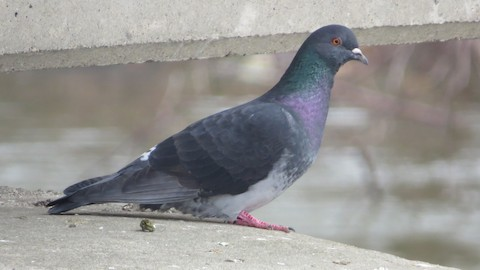pigeon: (44, 21, 378, 233)
